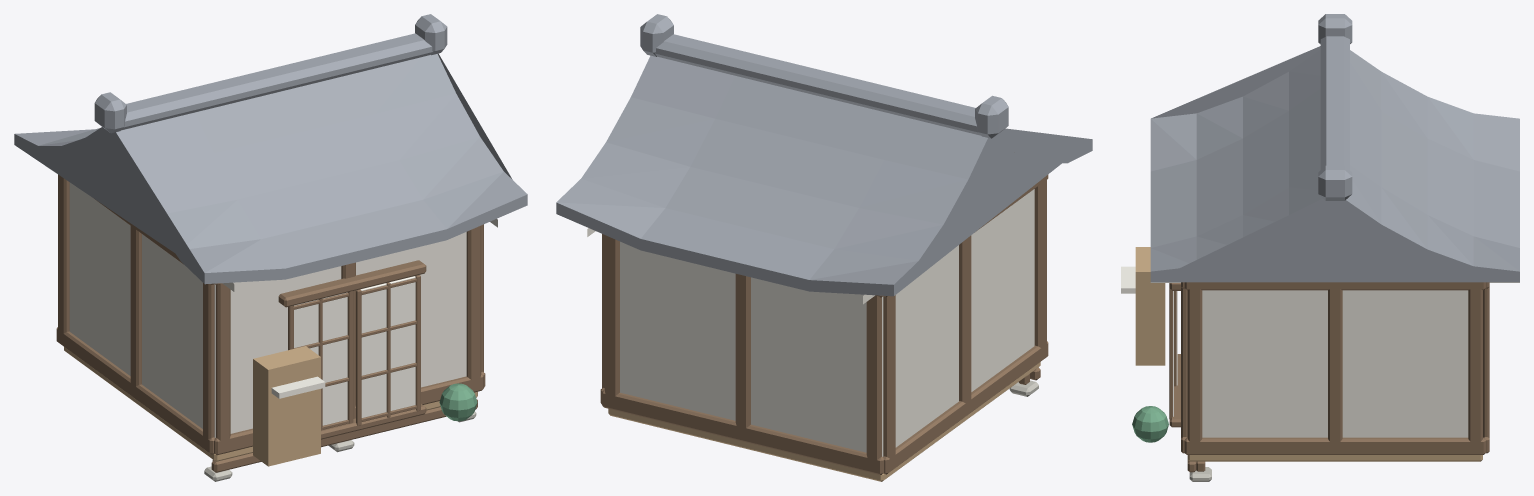
Rendered from herbalist-shop.glb.
3 renders of one model, left to right at view 1: azimuth 30°, elevation 25°; view 2: azimuth 150°, elevation 25°; view 3: azimuth 270°, elevation 25°, orthographic. The views are drawn at different scales.
Parts seen in each view (by area): view 1: herbalist-shop; view 2: herbalist-shop; view 3: herbalist-shop.
Boxes of the visible parts, box(x1,y1,x2,y2) form: herbalist-shop: box(14, 14, 527, 481); herbalist-shop: box(556, 14, 1092, 481); herbalist-shop: box(1121, 14, 1519, 481).
Size of the model in its own units: 5.2 by 4.91 by 5.4.
